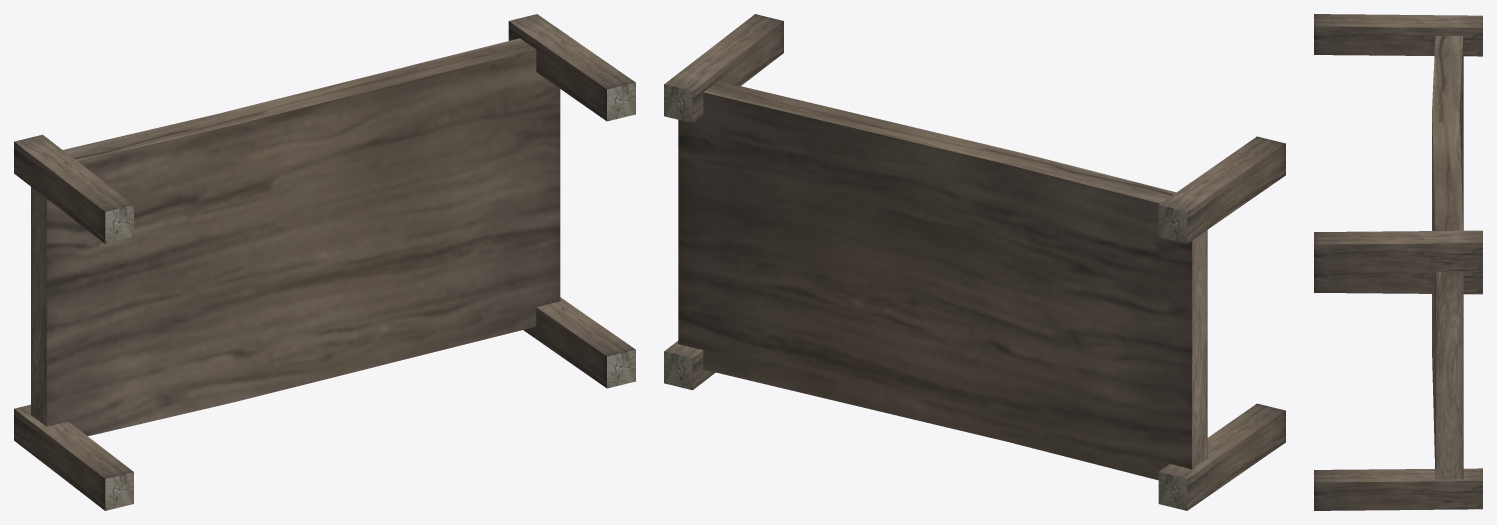
Rendered from Counter_Type_01_B.fbx.
The picture shows the model from 3 angles, left to right: view 1: azimuth 30°, elevation 25°; view 2: azimuth 150°, elevation 25°; view 3: azimuth 270°, elevation 25°; orthographic projection. The views are drawn at different scales.
Visible parts, largest first — view 1: Counter_Type_01_B; view 2: Counter_Type_01_B; view 3: Counter_Type_01_B.
Boxes of the visible parts, x1,y1,x2,y2 form: Counter_Type_01_B: (14,14,635,510); Counter_Type_01_B: (664,14,1285,510); Counter_Type_01_B: (1314,14,1482,510).
Bounding box in the file's own units: 3.37 × 1.82 × 1.04.
